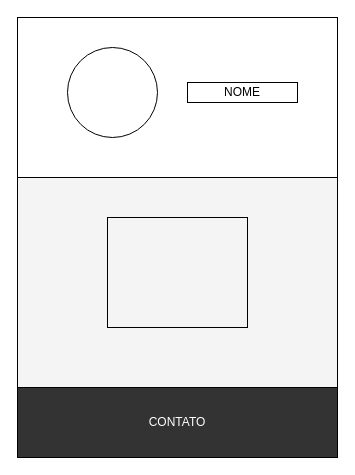
Image size: 355x475. Some labels were removed from this diagram. Here are the shapes that lost their labels. From the top down, the centre of each, then its label:
At point (112, 92): "FOTO".
At point (177, 272): "Projetos".
